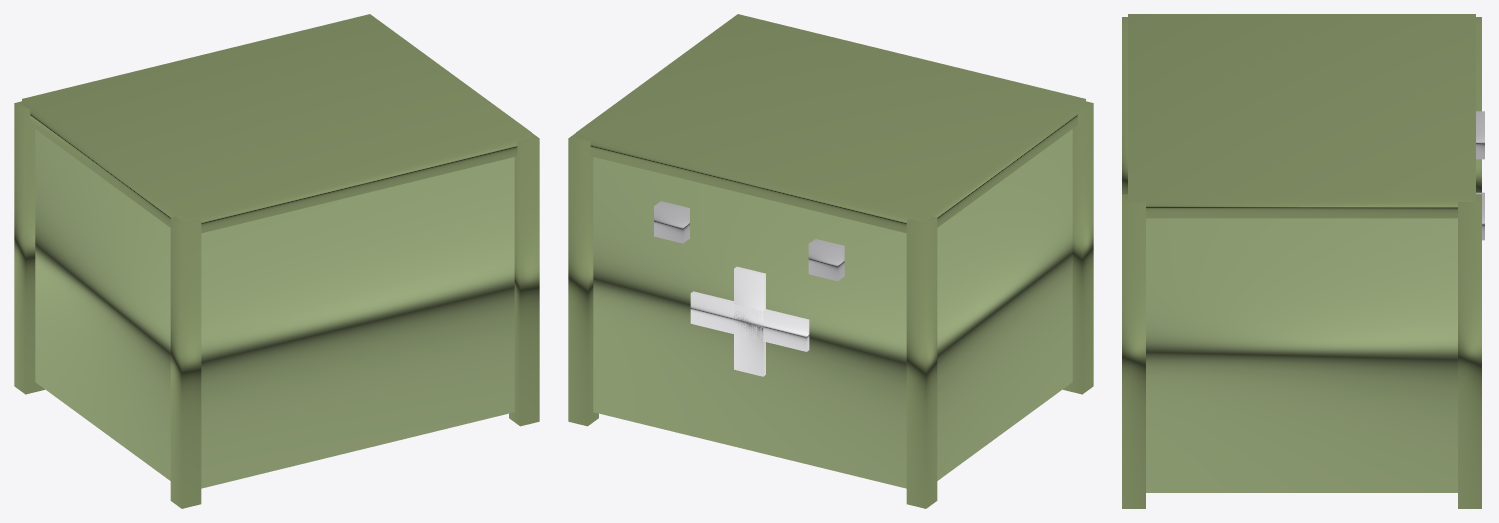
The picture shows the model from 3 angles, left to right: view 1: azimuth 30°, elevation 25°; view 2: azimuth 150°, elevation 25°; view 3: azimuth 270°, elevation 25°; orthographic projection. The views are drawn at different scales.
Parts seen in each view (by area): view 1: SC_Lid; view 2: SC_Lid; view 3: SC_Lid.
Part boxes in pixels (x1,y1,x2,y2): SC_Lid: [14, 14, 539, 508]; SC_Lid: [568, 14, 1093, 508]; SC_Lid: [1122, 14, 1484, 508].
Size of the model in its own units: 0.4478 by 0.3449 by 0.3661.
